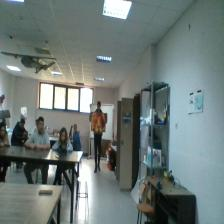fire-poster: (91, 113, 105, 132)
